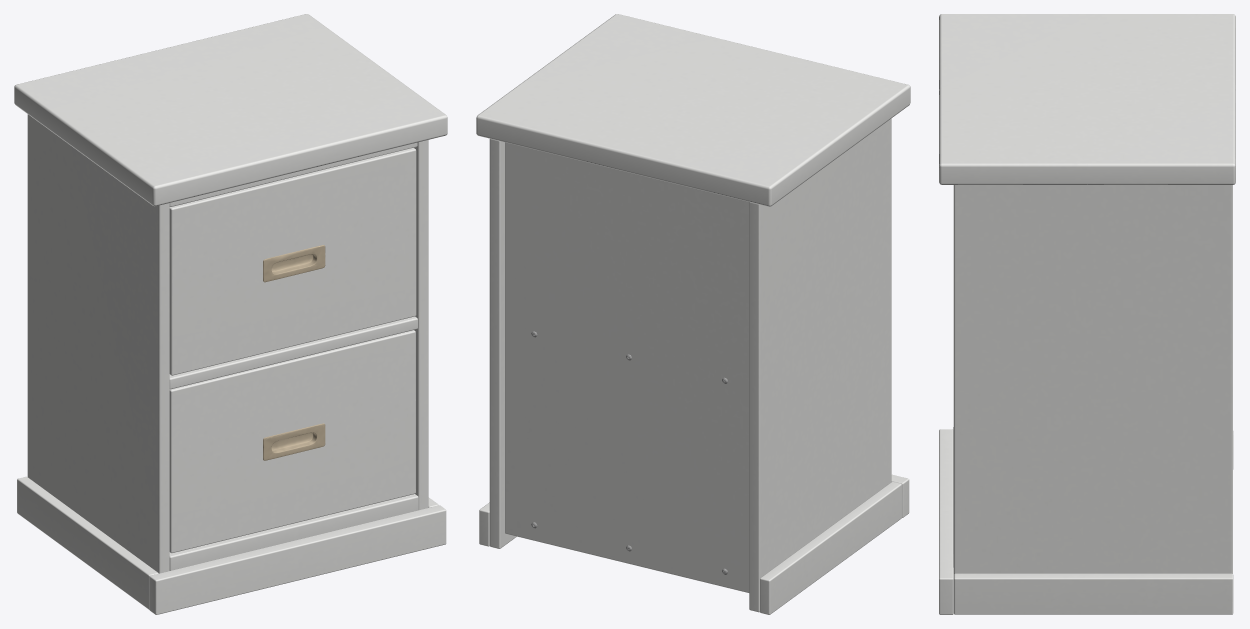
3 views of the same model, side by side, from view 1: azimuth 30°, elevation 25°; view 2: azimuth 150°, elevation 25°; view 3: azimuth 270°, elevation 25° (orthographic). The views are drawn at different scales.
Parts seen in each view (by area): view 1: RootNode; view 2: RootNode; view 3: RootNode.
Part boxes in pixels (x1,y1,x2,y2): RootNode: [14, 14, 447, 614]; RootNode: [476, 14, 910, 614]; RootNode: [939, 14, 1235, 614].
Size of the model in its own units: 0.521 by 0.724 by 0.4311.
1 material, 1 textured.
